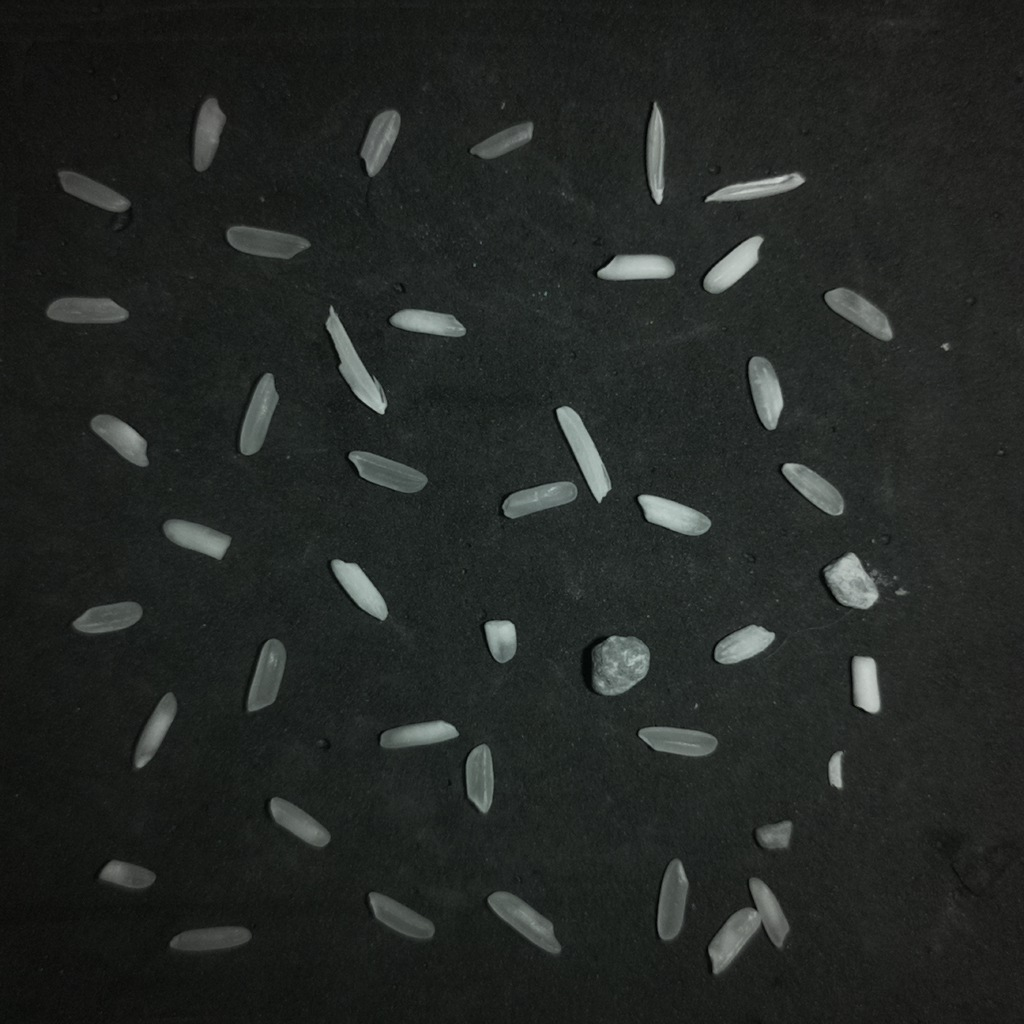chalky: (487, 891, 561, 954), (702, 235, 764, 294), (824, 288, 893, 340), (330, 560, 387, 620), (708, 907, 759, 974), (133, 692, 176, 768), (782, 464, 844, 515), (268, 797, 330, 847), (90, 414, 148, 466), (637, 494, 710, 535), (748, 877, 789, 948), (502, 481, 577, 518), (360, 109, 400, 177), (163, 519, 230, 559), (748, 356, 782, 429), (713, 624, 774, 664), (193, 96, 225, 171), (379, 720, 458, 748), (389, 308, 465, 337), (596, 254, 675, 280), (98, 860, 155, 889), (851, 656, 880, 713), (483, 620, 516, 663)
foreign: (325, 307, 386, 413), (556, 406, 610, 502), (591, 635, 649, 695), (823, 552, 878, 609), (705, 172, 804, 201), (645, 102, 664, 204), (754, 820, 793, 850), (828, 750, 844, 790)
whole: (348, 451, 427, 492), (239, 372, 278, 455), (368, 892, 434, 940), (58, 170, 130, 212), (246, 638, 286, 711), (226, 225, 310, 259), (657, 858, 688, 941), (469, 121, 533, 159), (638, 726, 717, 756), (72, 601, 142, 634), (46, 296, 128, 323), (169, 926, 251, 952), (465, 744, 493, 813)
